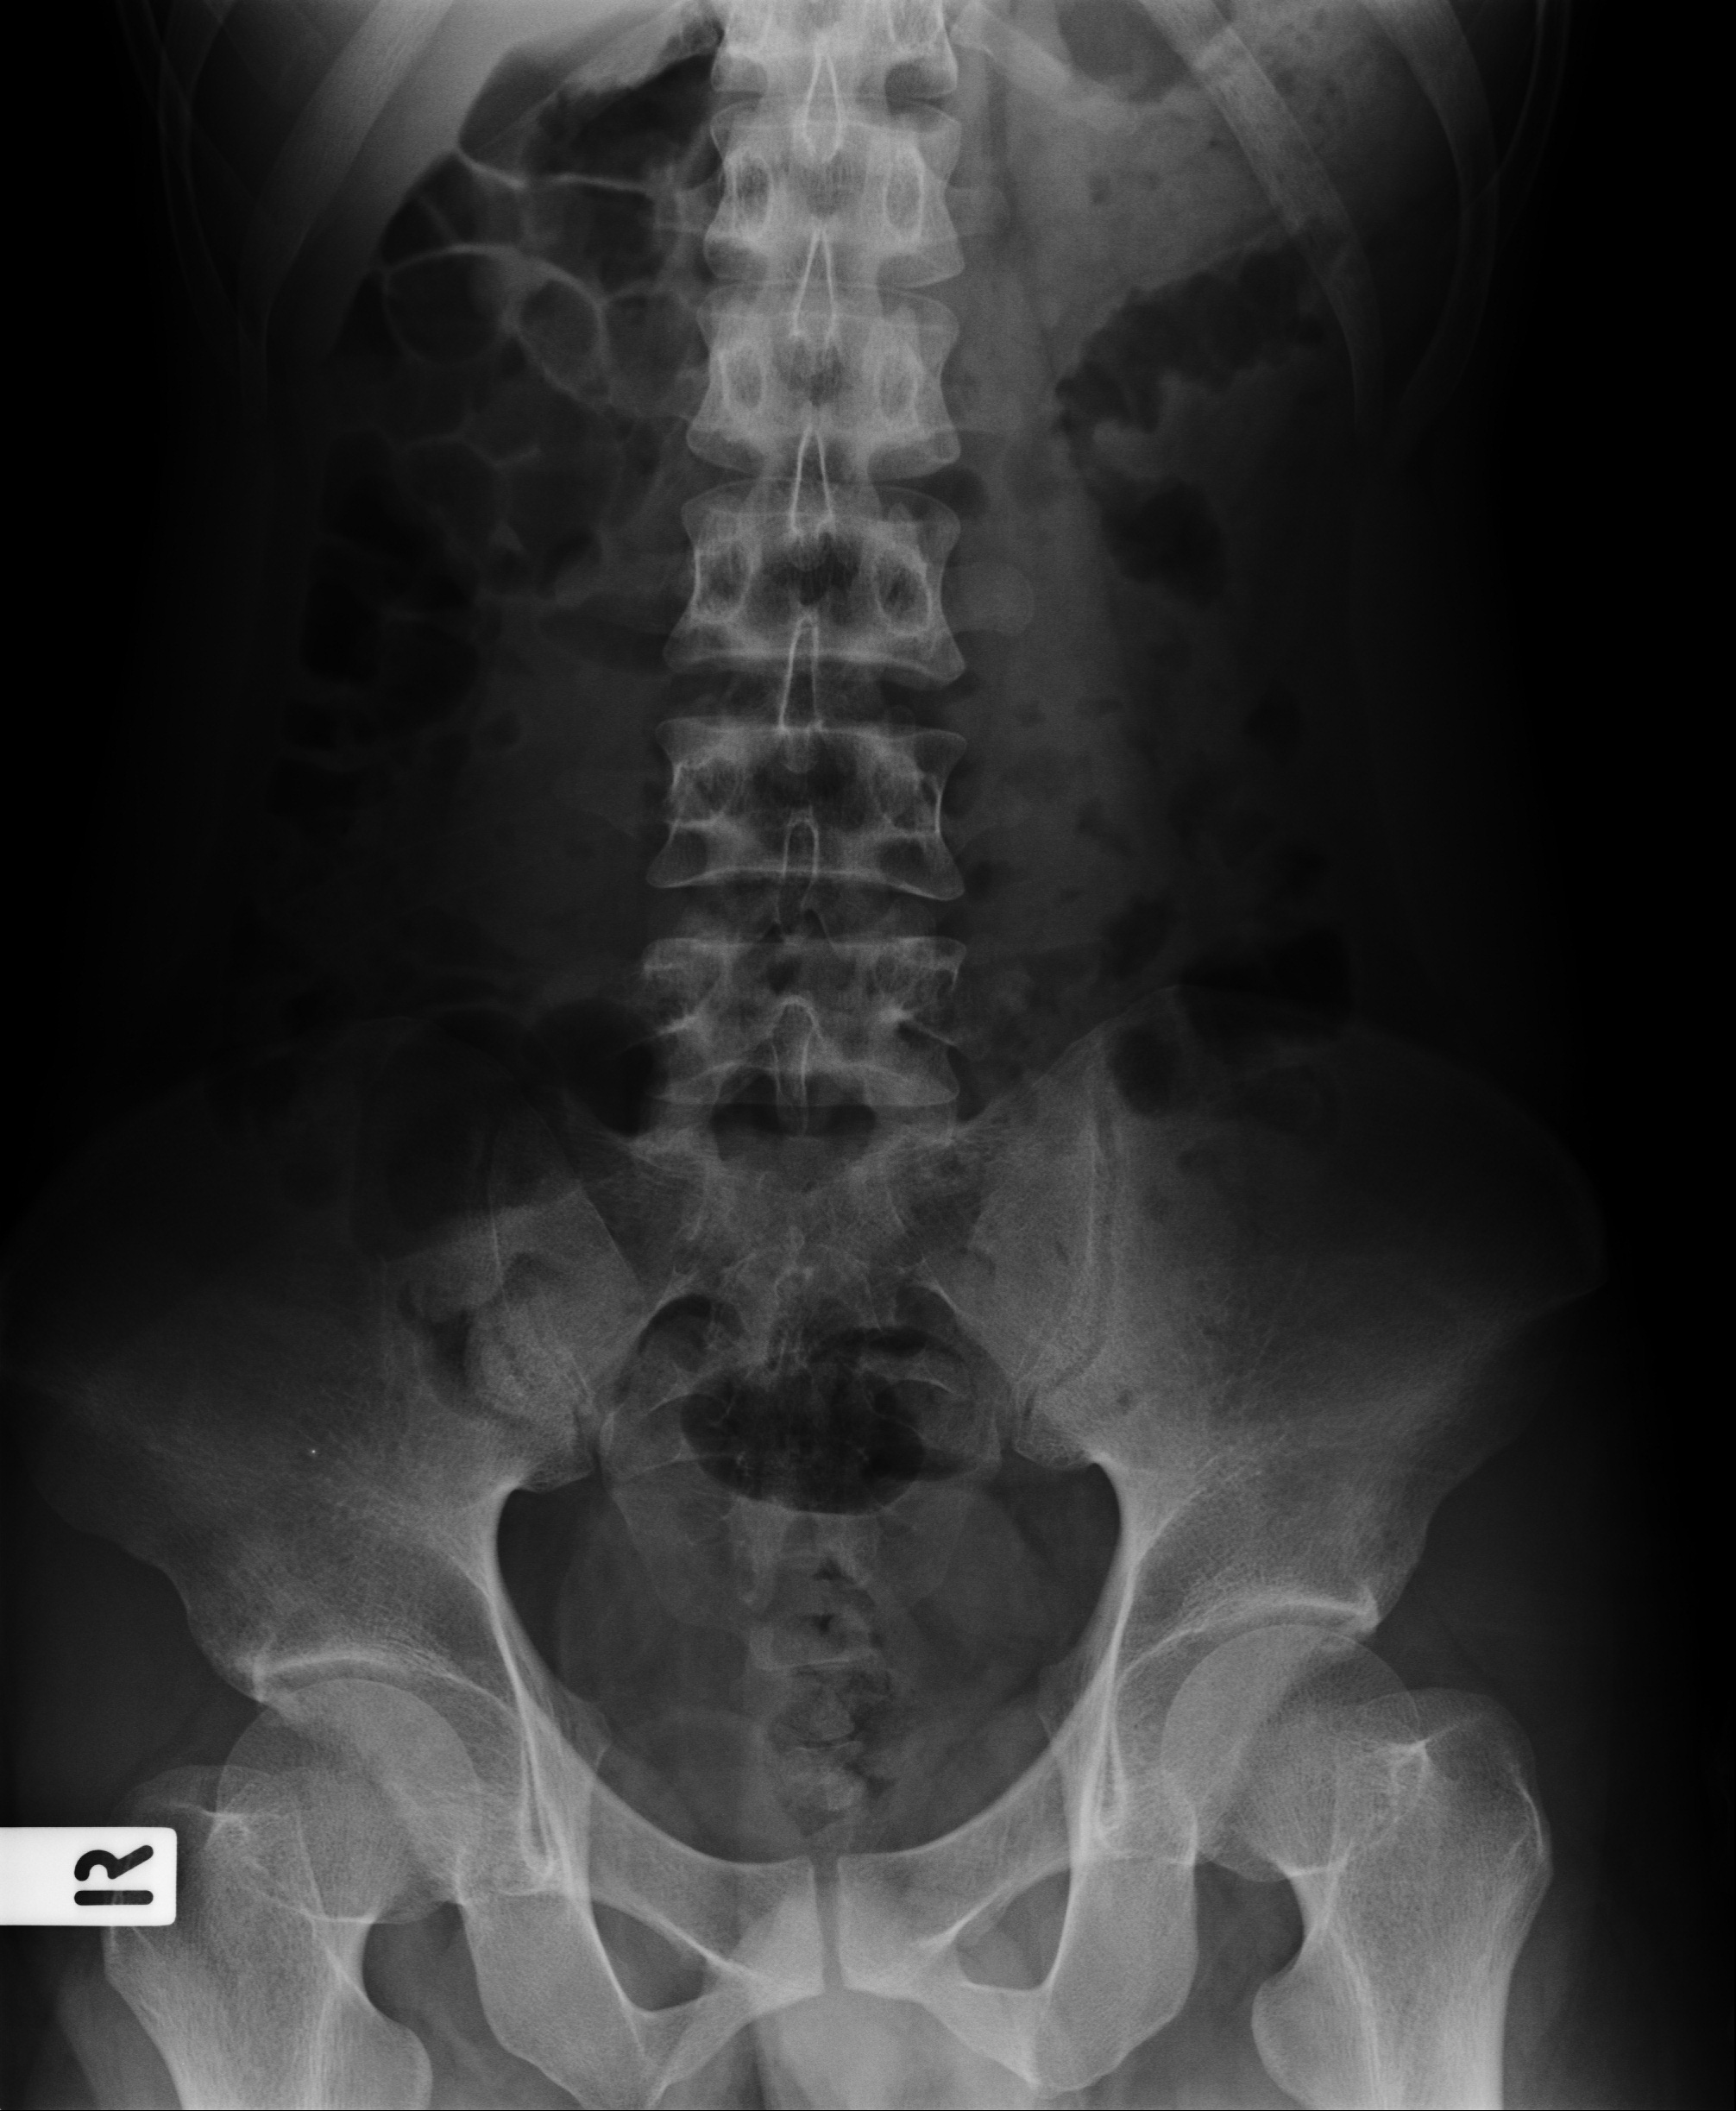lumbar scoliosis: (626, 21, 971, 1280)
